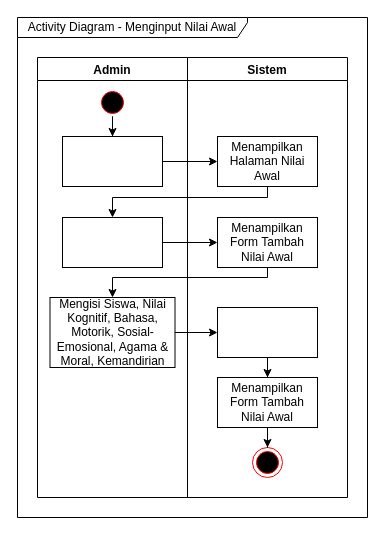
This 385x535 diagram has some shape labels left out. The centre of each missing label's shape, as x and y in pixels:
Membuka Menu Nilai Awal: pixel 112 161
Memilih Tambah Nilai Awal: pixel 112 242
Menyimpan Data Nilai Awal: pixel 267 332
